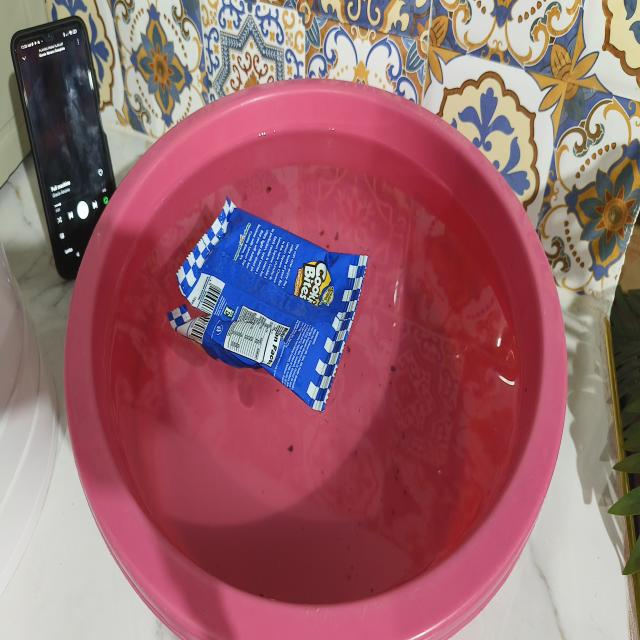Plastic Wrapper: (168, 199, 369, 412)
